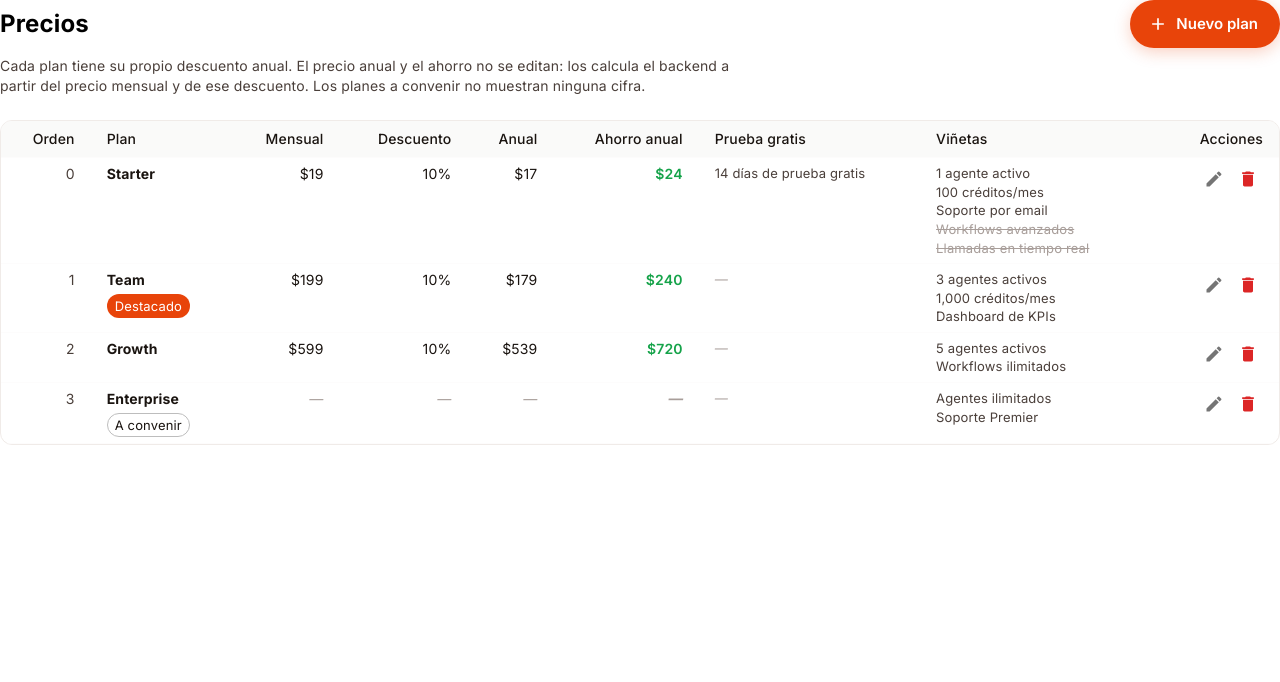
Scenario: PricesList — edición › no ofrece precio_anual ni ahorro_anual como campos editables: solo los muestra calculados
Expected: the text "Starter" is shown, left=107, top=165, right=155, bottom=182
Click the button named "Editar Starter": [1214, 179] box left=1199, top=164, right=1229, bottom=194
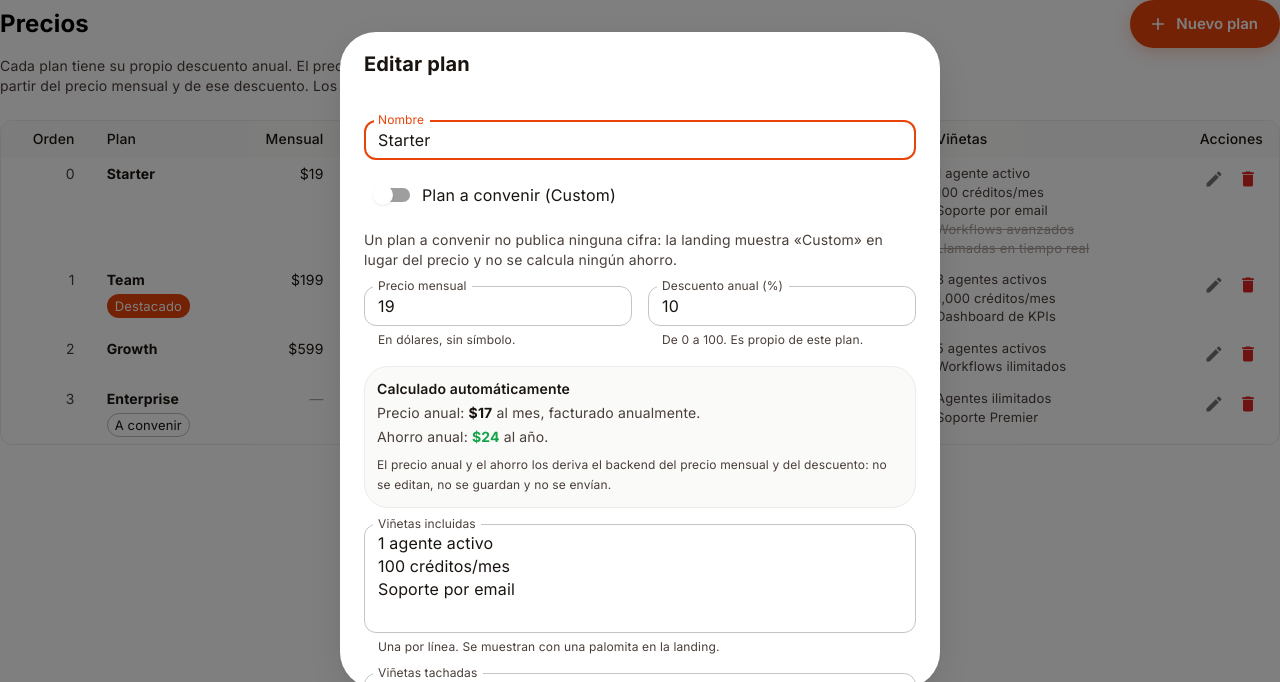
Now the text with test id "derivado-precio-anual" reads "$17", box left=469, top=404, right=492, bottom=421
Now the text with test id "derivado-ahorro-anual" reads "$24", box left=472, top=428, right=500, bottom=445
Now the text "no se editan, no se guardan y no se envían" is shown, box left=377, top=457, right=887, bottom=492
